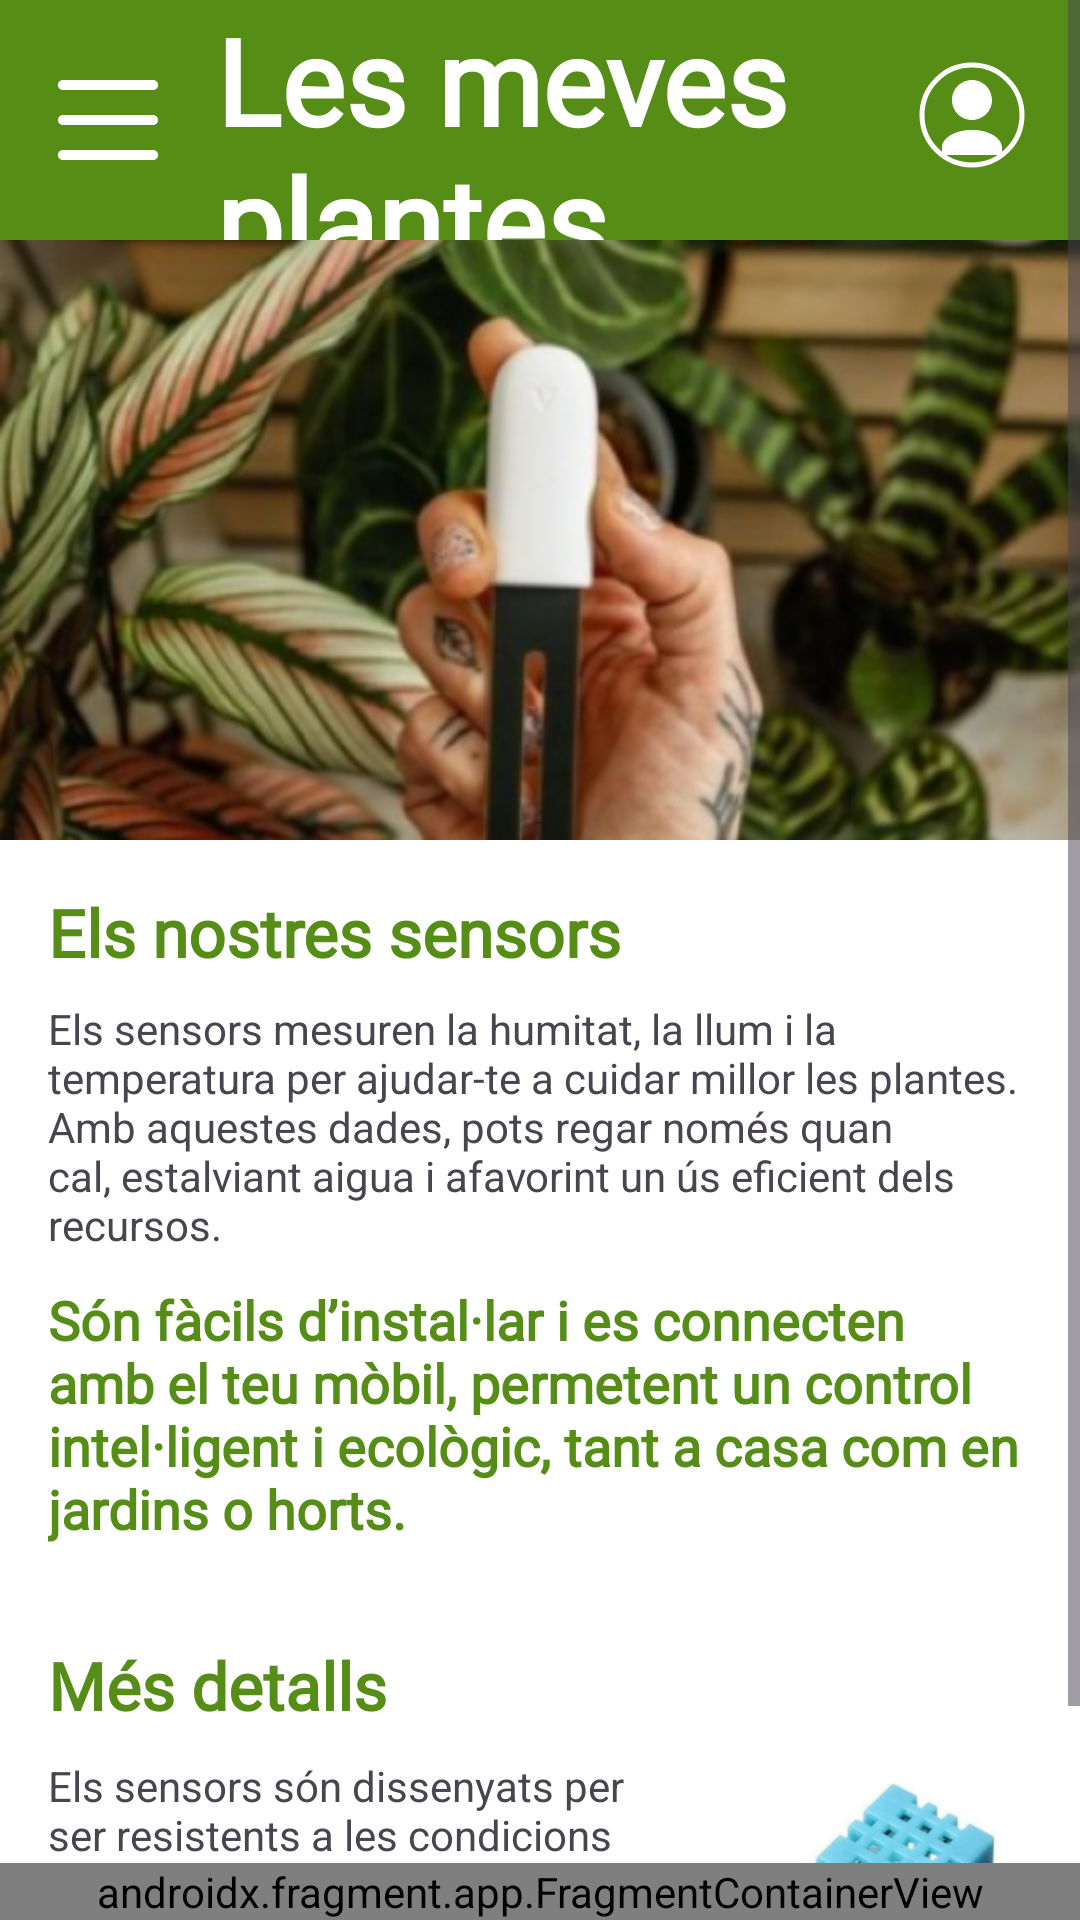

Icon click points for this 1080px×1920px phone screenshot, format (x,y):
menu: (108,120)
user: (972,115)
